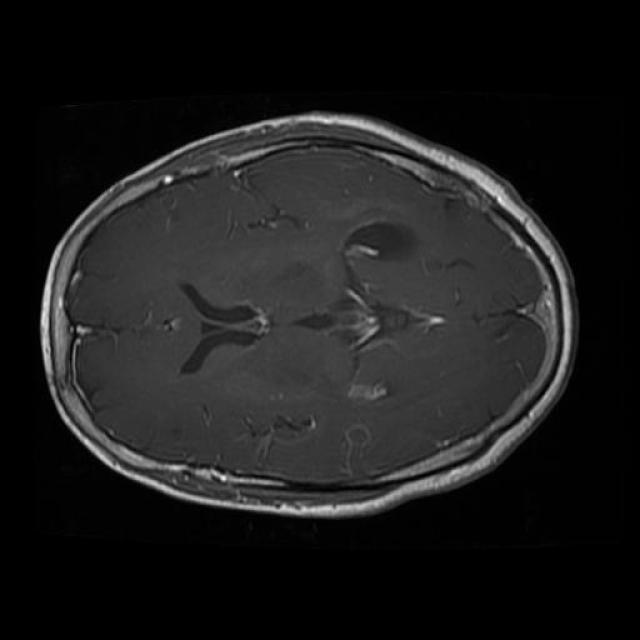Glioma: (344, 221, 416, 261)
